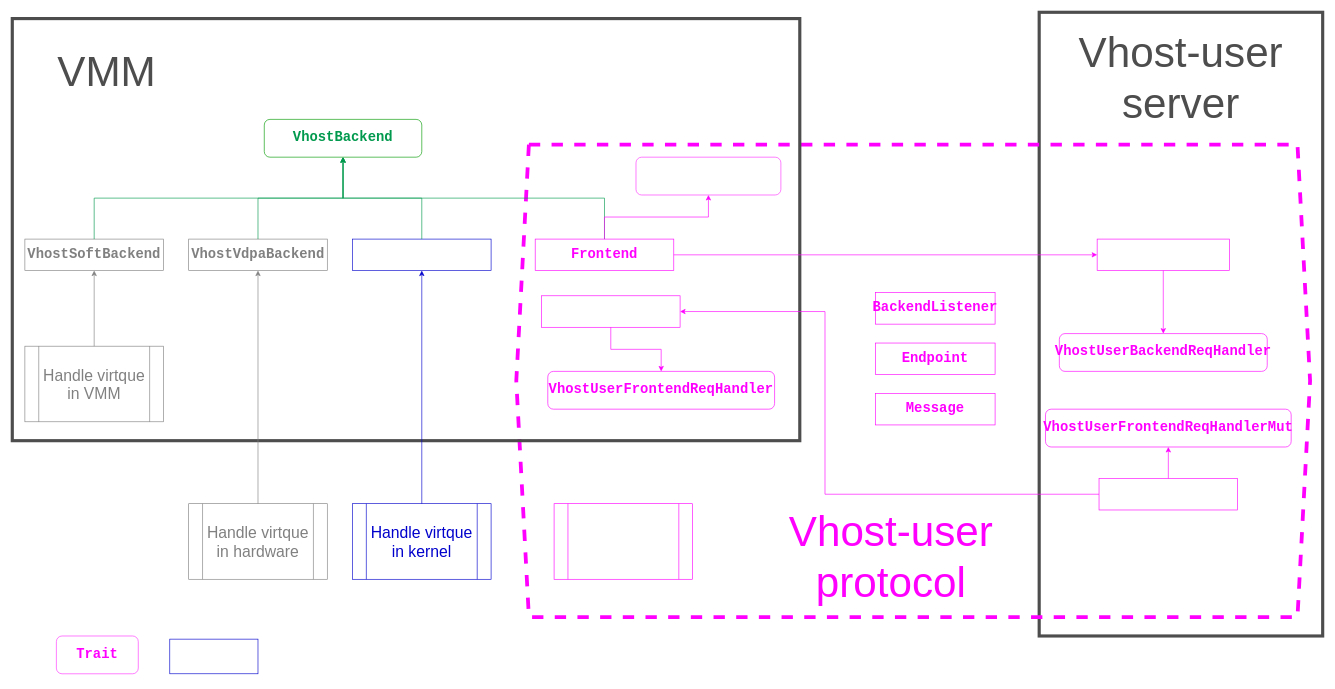
This 1335x689 diagram has some shape labels left out. The centre of each missing label's shape, as x and y in pixels:
"Backend" goes at (1168,494).
"BackendReqHandler" goes at (1163,254).
"FrontendReqHandler" goes at (610,311).
"Handle virtque in remote process" goes at (623,541).
"Struct" goes at (213,656).
"VhostKernBackend" goes at (421,254).
"VhostUserFrontend" goes at (708,176).
